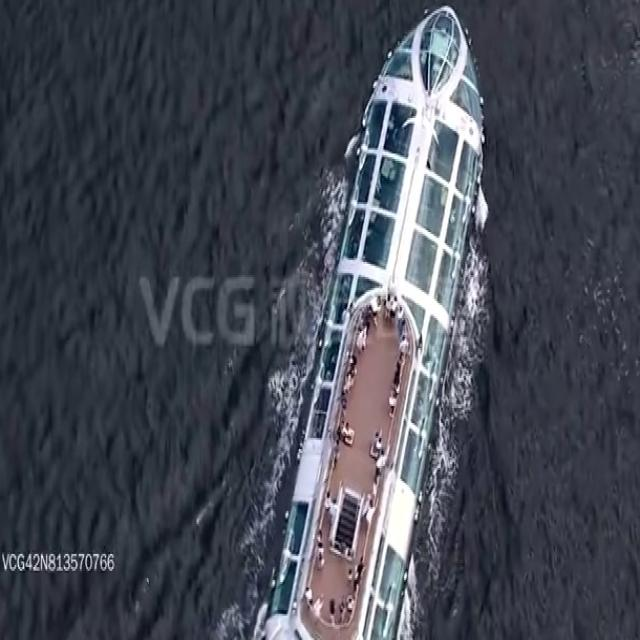passenger ship: (259, 0, 483, 640)
